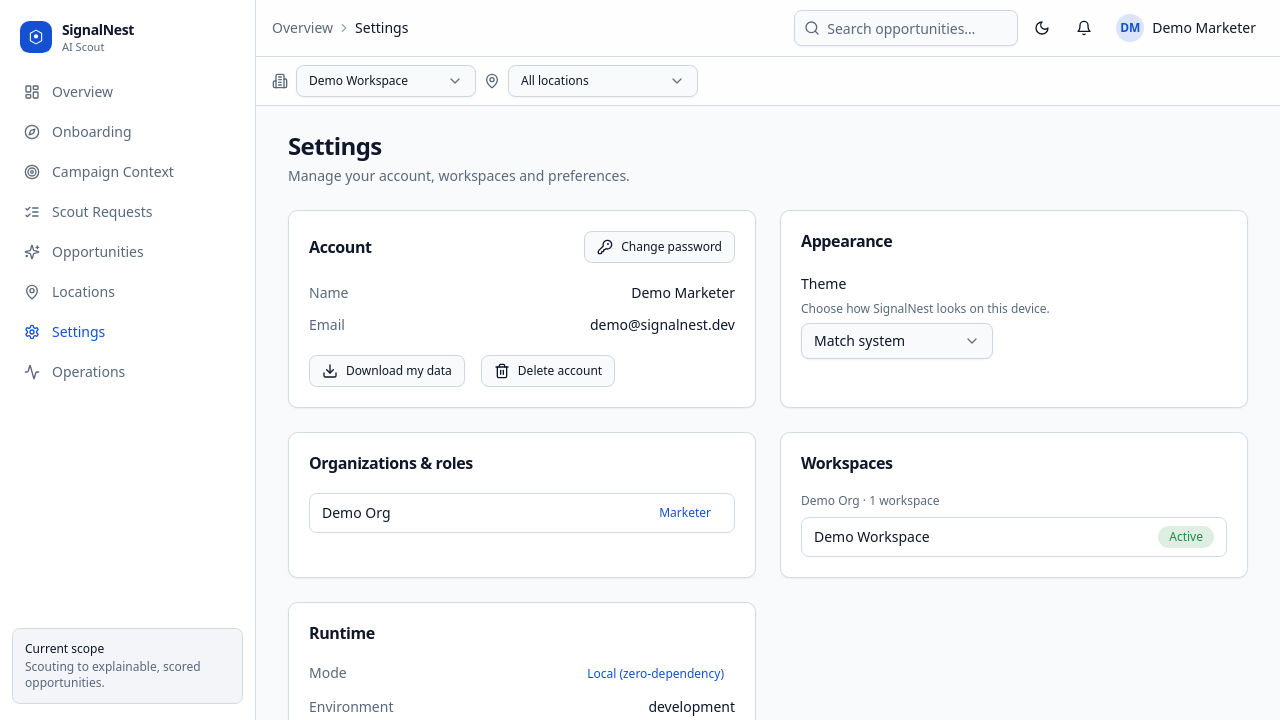
it: account deletion › says when an unverified address leaves data found only by it
The width and height of the screenshot is (1280, 720).
Click the button "Delete account" at (548, 371), box [481, 355, 615, 387]
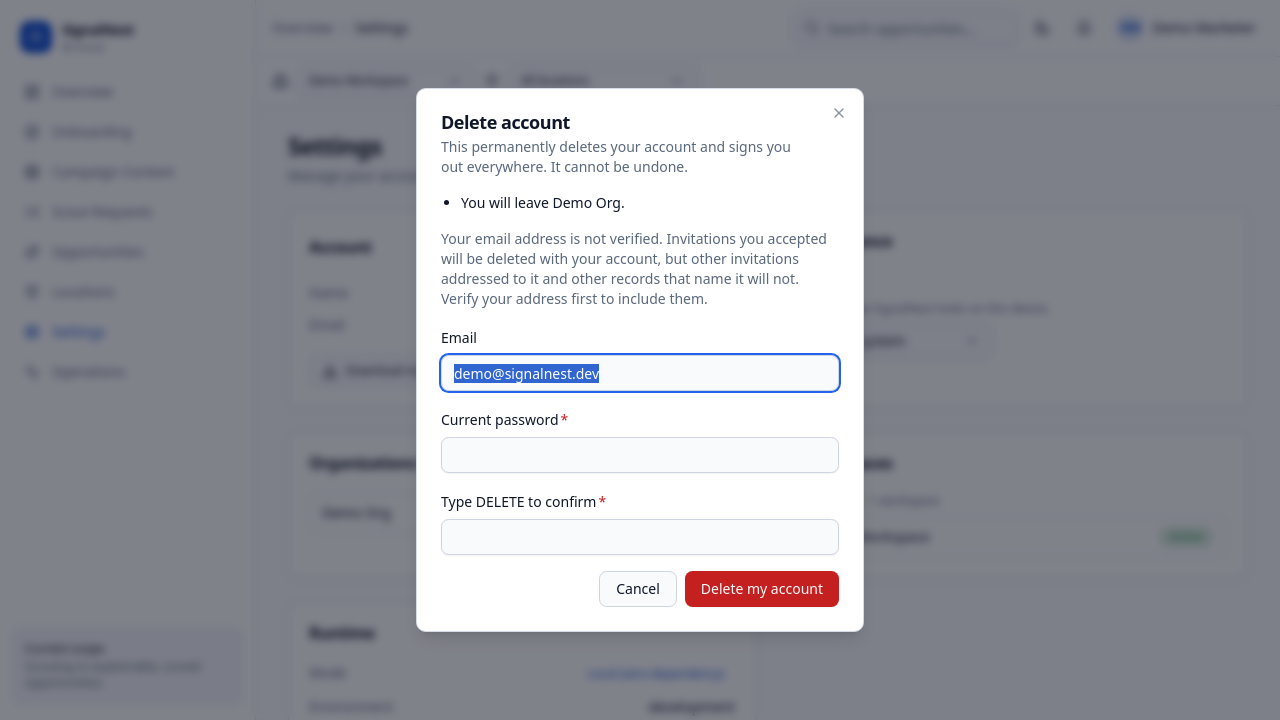
Now the list item "You will leave Demo Org." is shown, box [461, 193, 625, 212]
Now the text "Your email address is not verified" is shown, box [441, 229, 827, 308]
Now the button "Delete my account" is enabled, box [685, 571, 839, 607]
